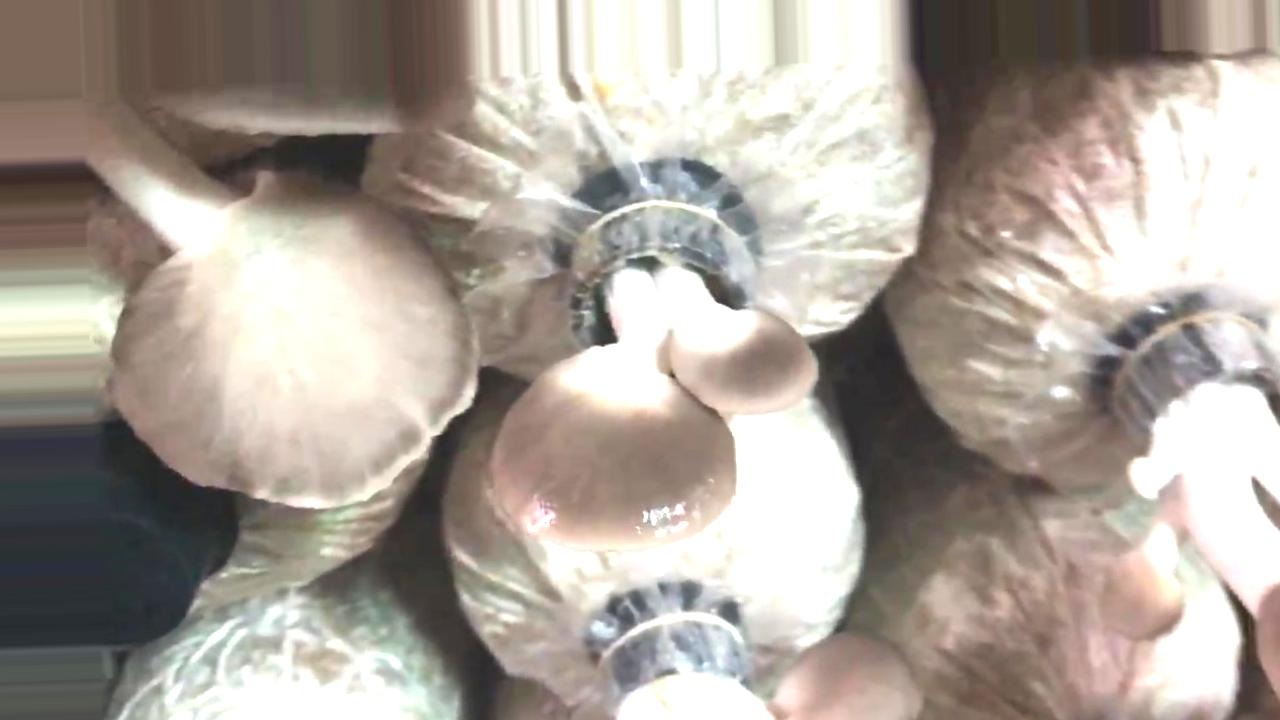nam: (84, 96, 481, 517), (486, 203, 823, 546), (1102, 316, 1280, 684)
